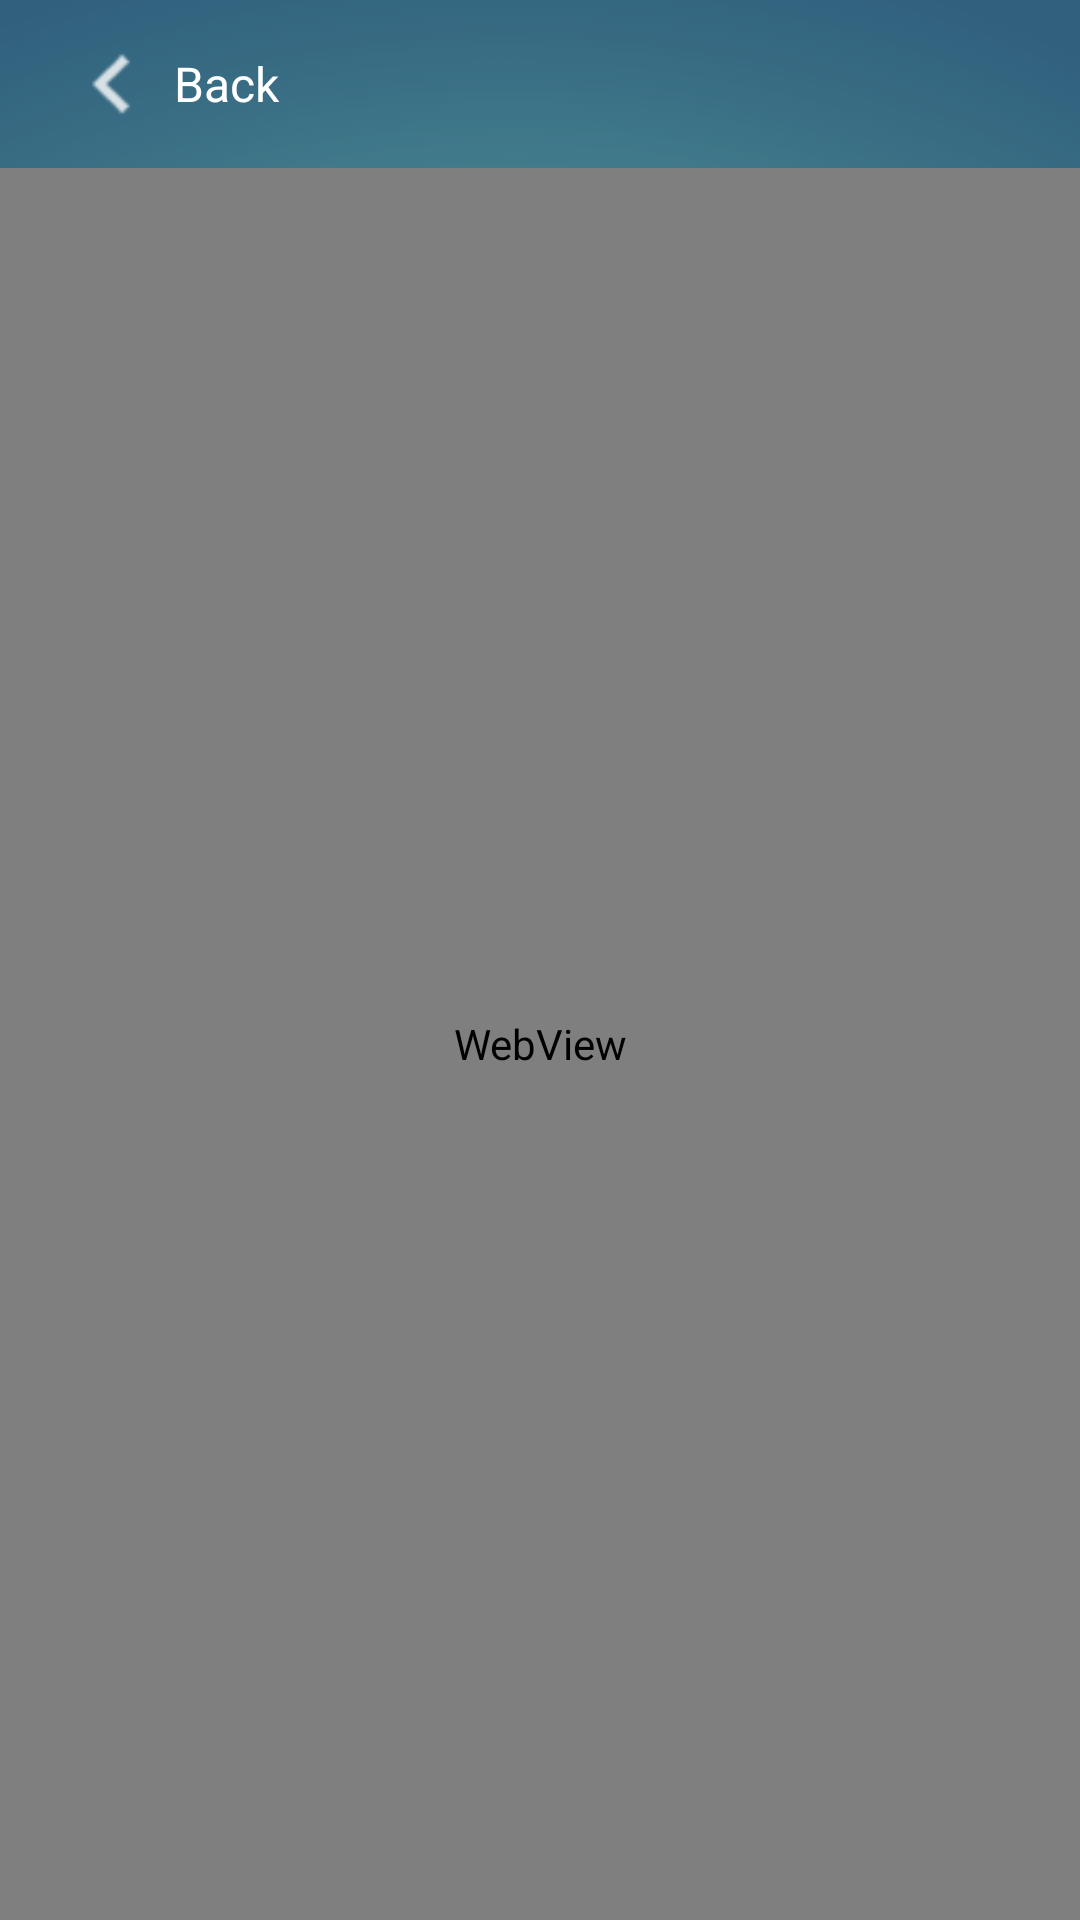

Where icons sit on this 1080px×1920px app screen, as bbox=(x1, y1, x2, y2):
arrowleft: bbox=(92, 54, 130, 114)
